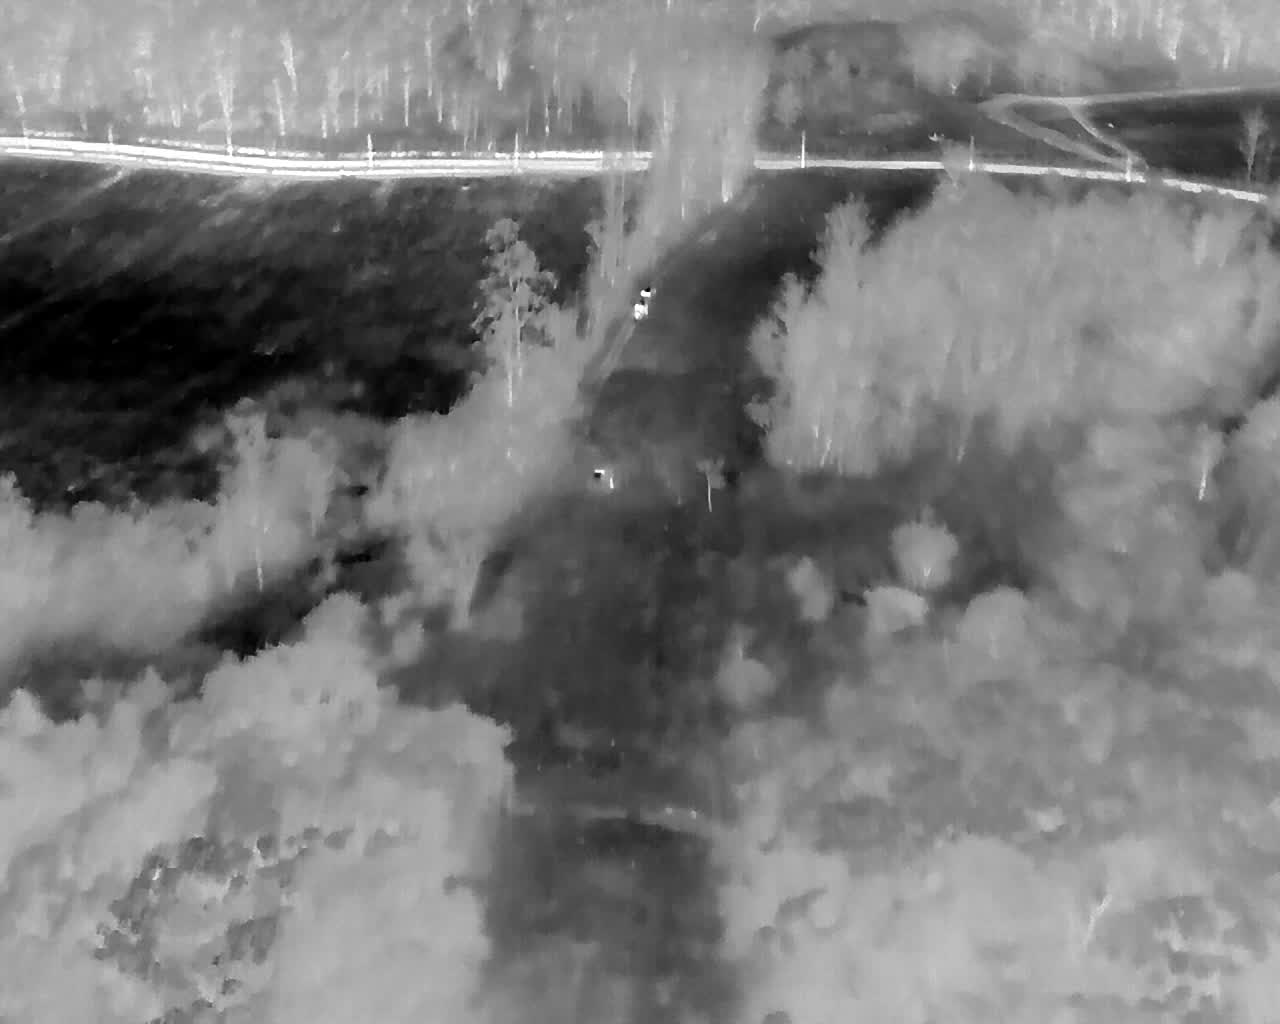car: (615, 420, 635, 455), (666, 105, 686, 126), (674, 84, 696, 104)
person: (669, 128, 675, 143), (637, 414, 644, 429), (668, 121, 674, 131), (675, 124, 679, 137), (663, 121, 668, 133), (679, 122, 683, 131)
